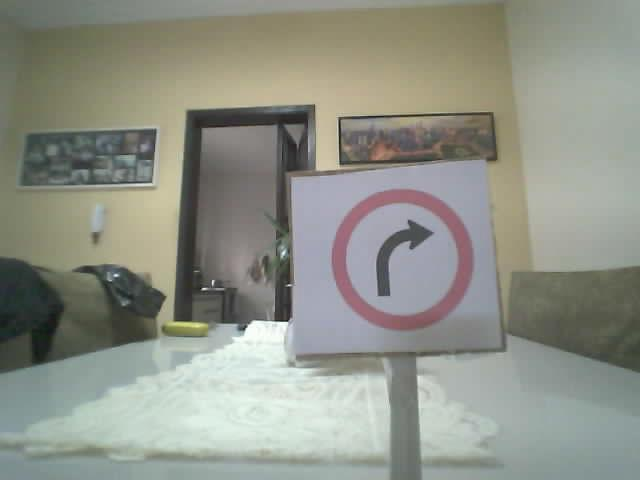R-25b_direita: (329, 186, 475, 329)
